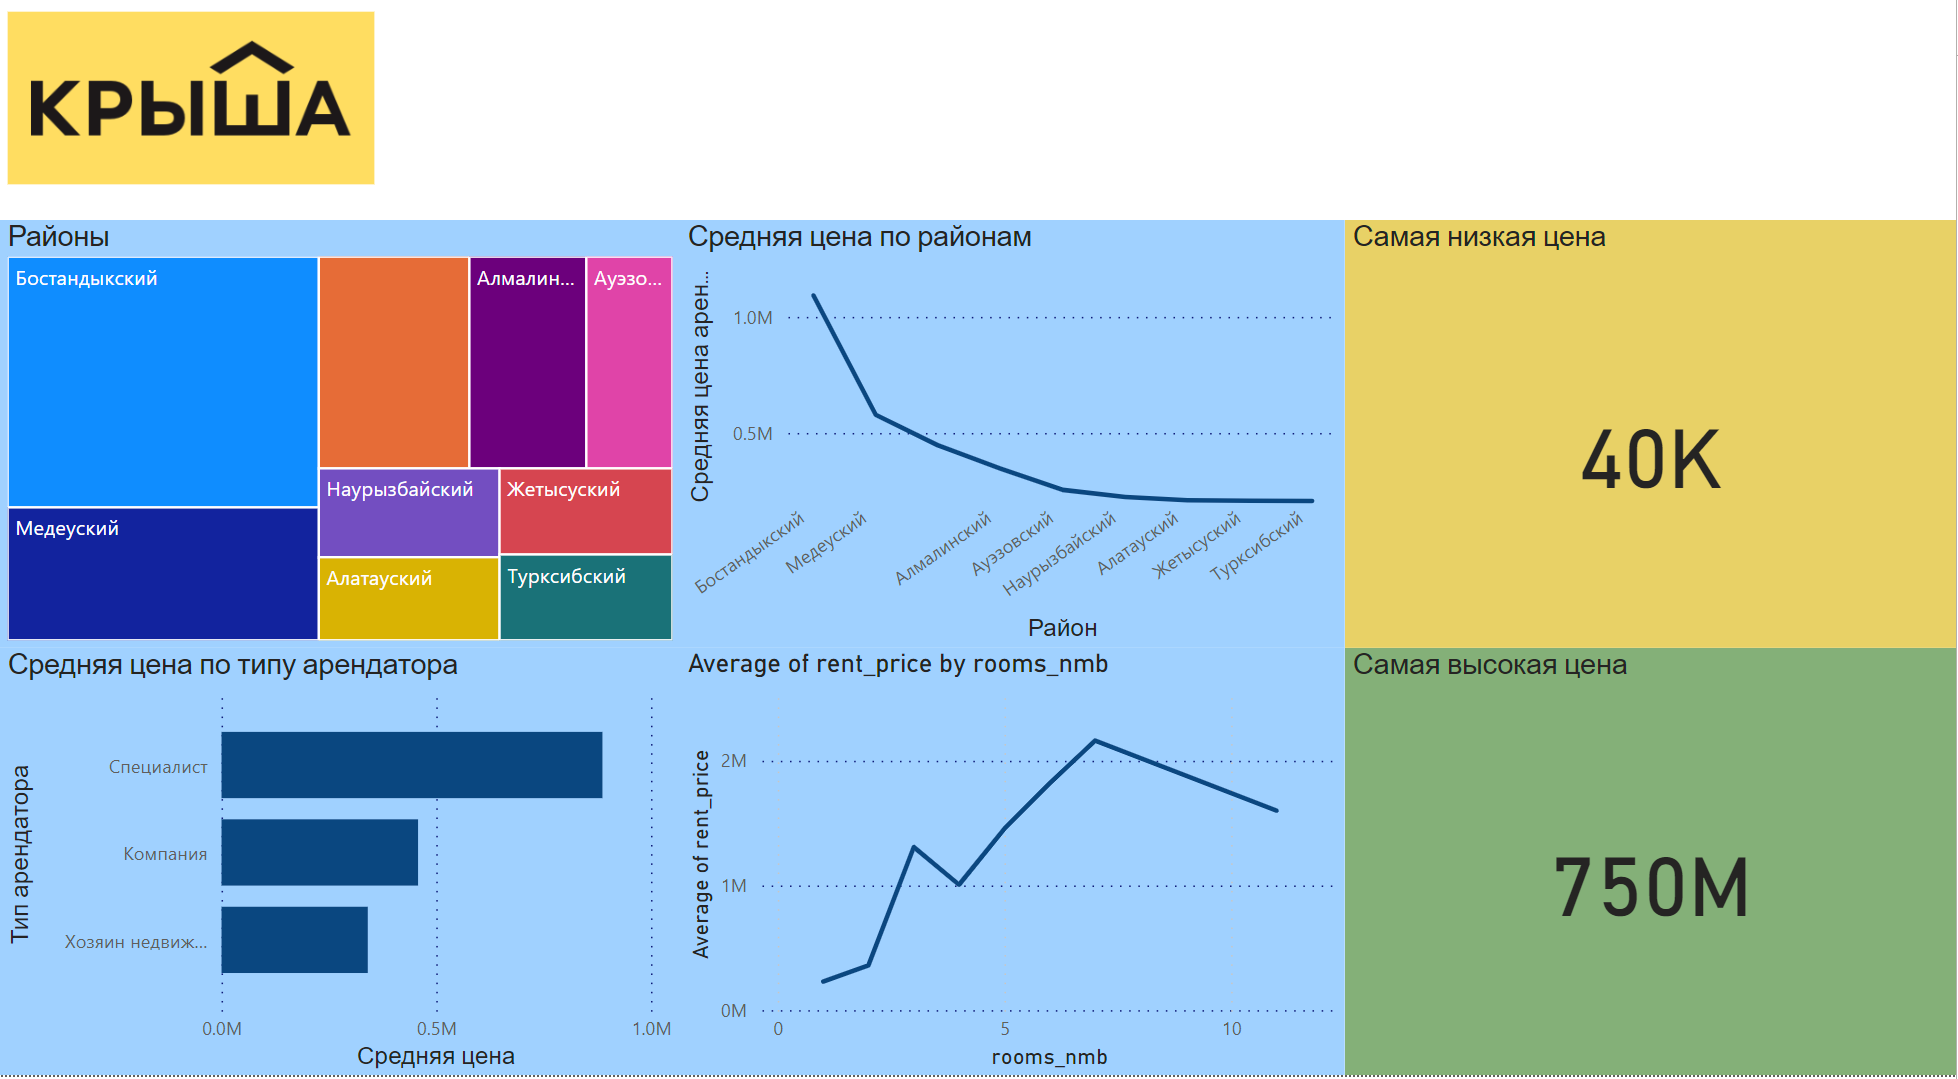

This screenshot's page, from the dashboard's own definition file:
{"tool":"powerbi","page":{"name":"Page 1","canvas":[1280,720],"ordinal":0},"visuals":[{"type":"lineChart","title":"Средняя цена по районам","fields":{"Category":["almaty-processed.district"],"Y":["Avg(almaty-processed.rent_price)"]},"box":[445.1,160.6,435.1,279.9],"z":0},{"type":"clusteredBarChart","title":"Средняя цена по типу арендатора","fields":{"Category":["almaty-processed.owner_type"],"Y":["Avg(almaty-processed.rent_price)"]},"box":[0,440.4,445.1,279.9],"z":1000},{"type":"lineChart","fields":{"Category":["almaty-processed.rooms_nmb"],"Y":["Avg(almaty-processed.rent_price)"]},"box":[445.1,440.4,435.1,279.9],"z":2000},{"type":"treemap","title":"Районы","fields":{"Values":["Avg(almaty-processed.rent_price)"],"Group":["almaty-processed.district"]},"box":[0,160.6,445.1,279.9],"z":3000},{"type":"card","title":"Самая низкая цена","fields":{"Values":["Min(almaty-processed.rent_price)"]},"box":[880.2,160.6,399.8,279.9],"z":4000},{"type":"card","title":"Самая высокая цена","fields":{"Values":["Max(almaty-processed.rent_price)"]},"box":[880.2,440.4,399.8,279.9],"z":5000},{"type":"image","box":[0,0,249.9,160.6],"z":5001}]}

Visuals, with their boxes in screenshot pixels (x1, y1, x2, y2), scaled from the page's 1280x720 canvas onto the 1958x1079 screenshot:
"Средняя цена по районам" lineChart: region(681, 241, 1346, 660)
"Средняя цена по типу арендатора" clusteredBarChart: region(0, 660, 681, 1078)
lineChart - almaty-processed.rooms_nmb x Avg(almaty-processed.rent_price): region(681, 660, 1346, 1078)
"Районы" treemap: region(0, 241, 681, 660)
"Самая низкая цена" card: region(1346, 241, 1957, 660)
"Самая высокая цена" card: region(1346, 660, 1957, 1078)
image: region(0, 0, 382, 241)
